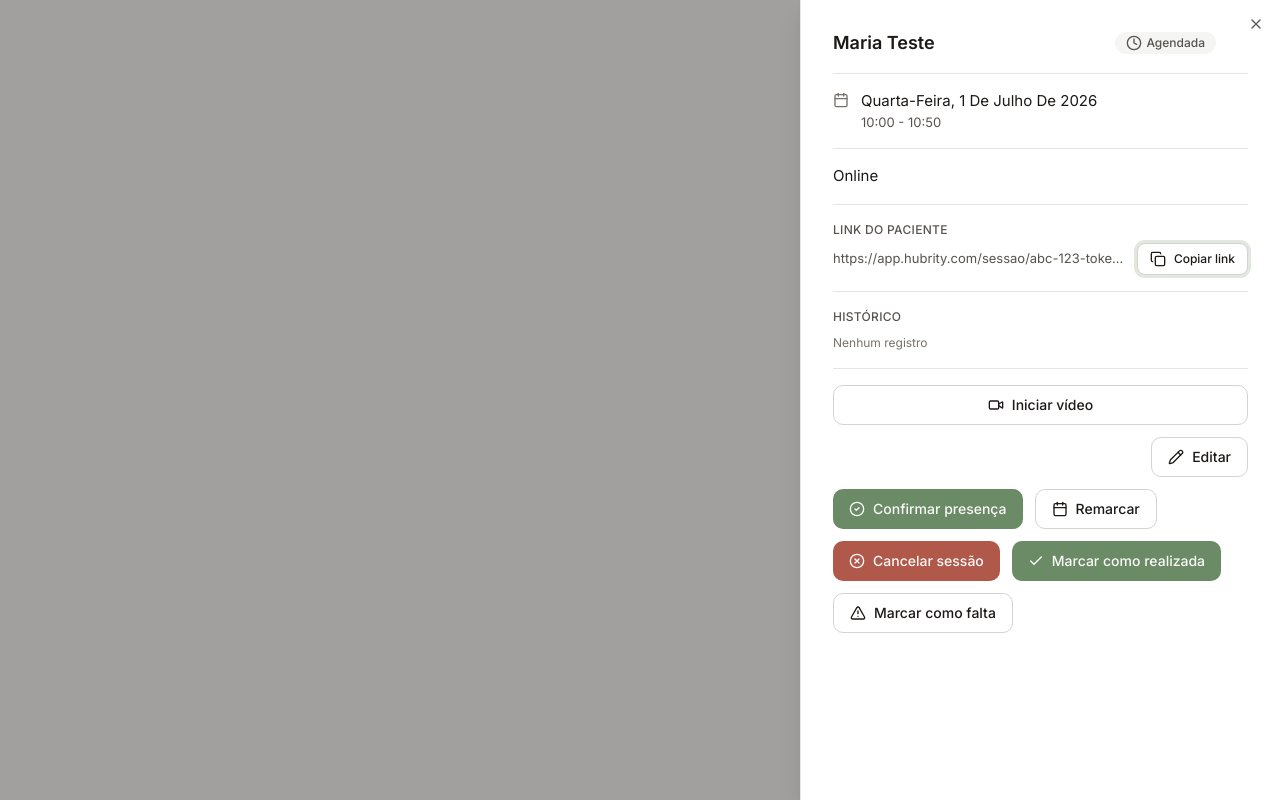
Test case: SessionDetailDrawer — "Link do paciente" copy section › copies the full URL to the clipboard when "Copiar link" is clicked
The image size is (1280, 800).
Step 1. Click the button with test id "copy-patient-link-button" → (1192, 258), box [1137,242,1248,274]
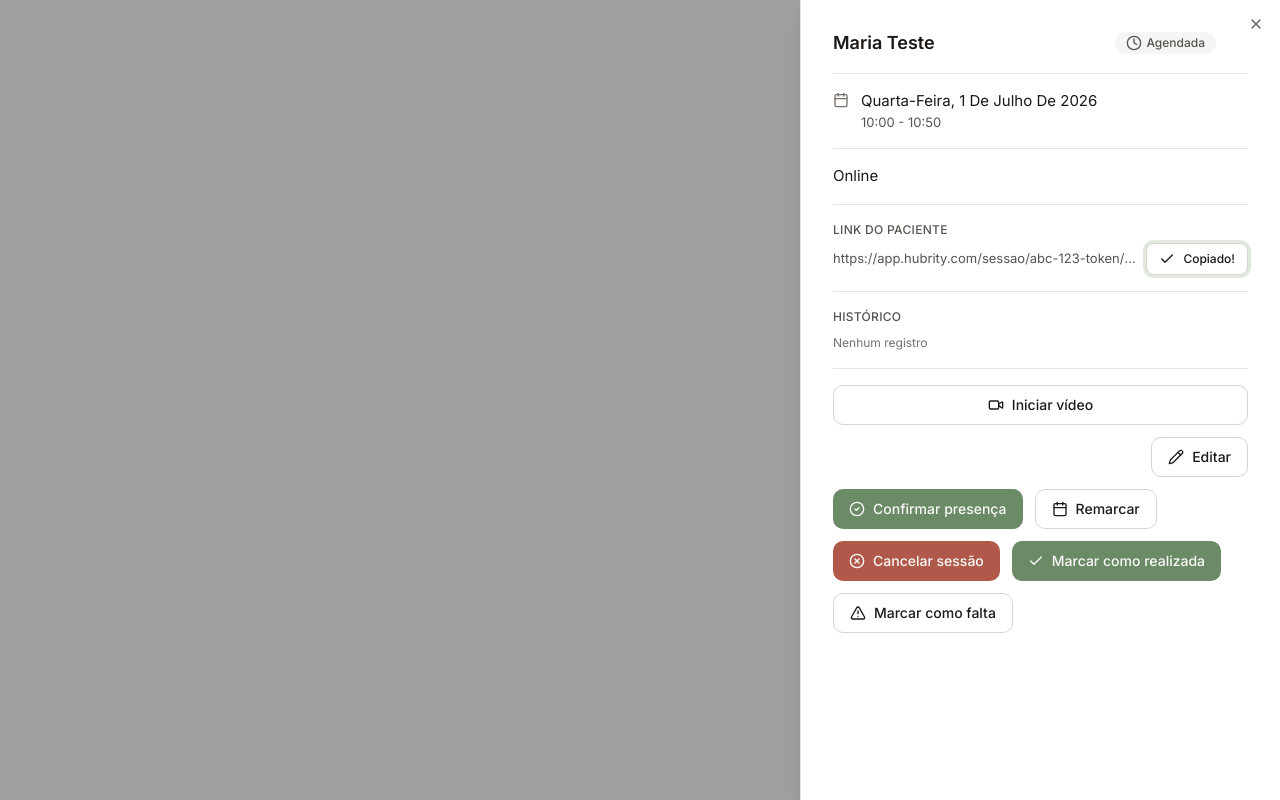
Result: the button with test id "copy-patient-link-button" reads "Copiado!" at [1146,242,1248,274]
